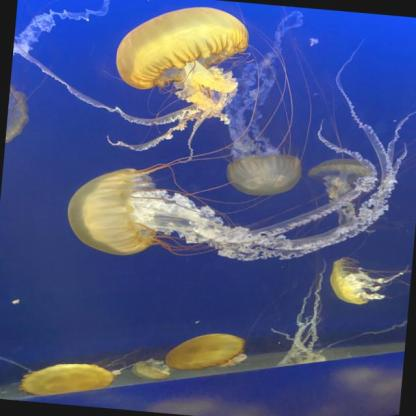jellyfish: (112, 0, 251, 99), (64, 164, 162, 258), (19, 358, 113, 402), (166, 328, 244, 376), (226, 150, 300, 200), (330, 257, 376, 305), (307, 156, 373, 186), (5, 81, 29, 146), (130, 359, 170, 383)
